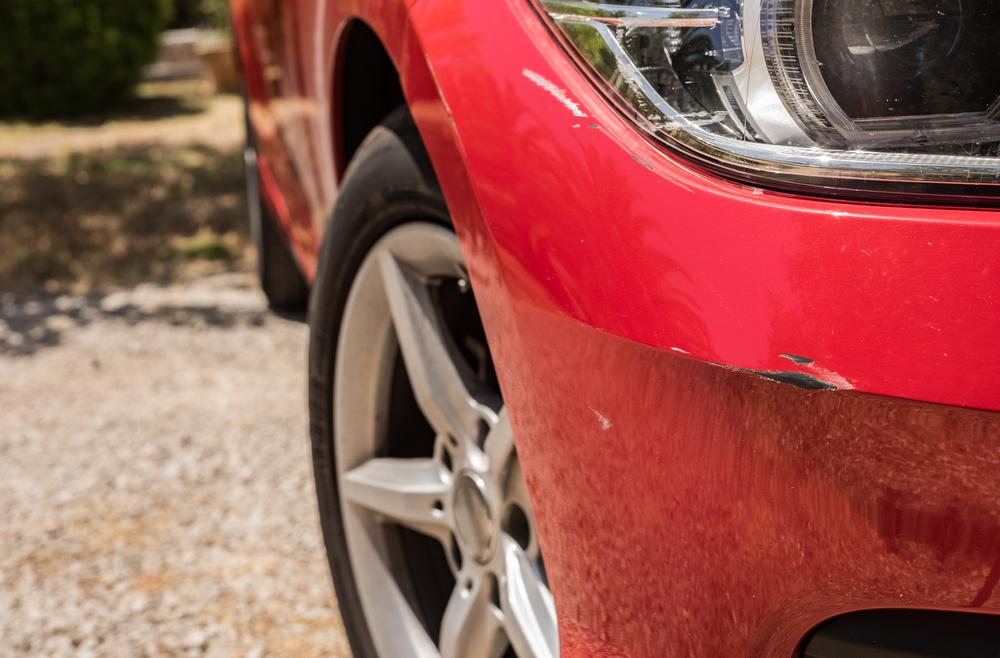scratch: (685, 347, 860, 398), (521, 64, 603, 131)
